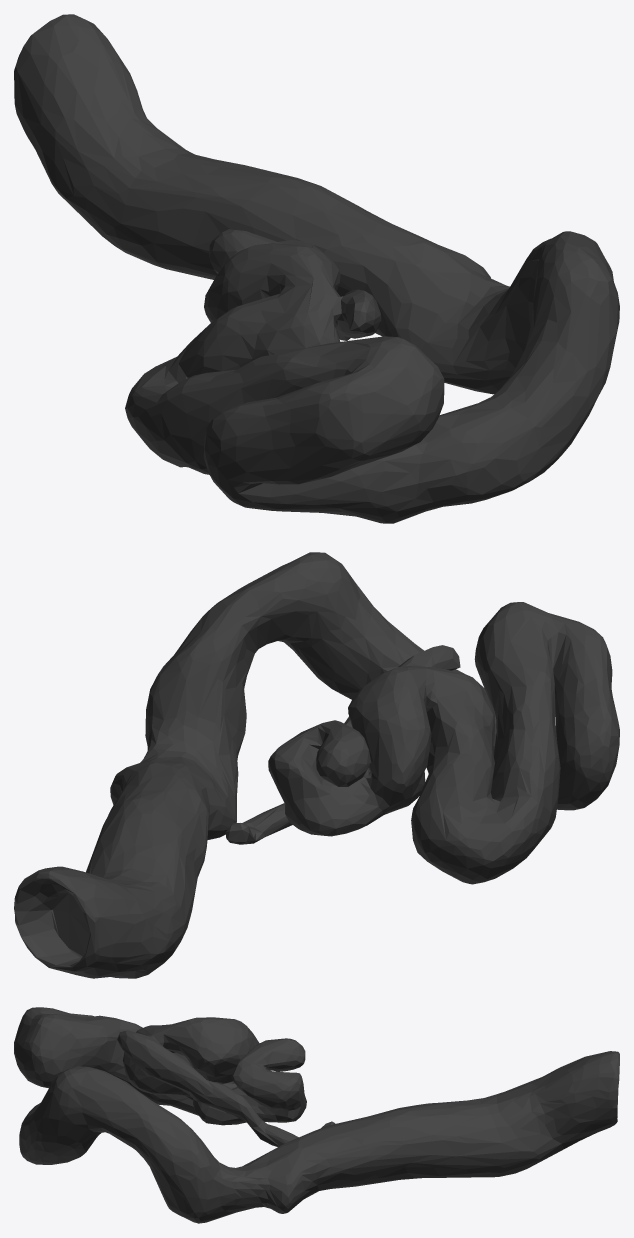
The model's file is Colon.glb.
The picture shows the model from 3 angles, top to bottom: view 1: azimuth 30°, elevation 25°; view 2: azimuth 150°, elevation 25°; view 3: azimuth 270°, elevation 25°; orthographic projection. The views are drawn at different scales.
Visible parts, largest first — view 1: Colon; view 2: Colon; view 3: Colon.
Part boxes in pixels (x1=…): Colon: x1=14, y1=14, x2=619, y2=523; Colon: x1=14, y1=552, x2=619, y2=978; Colon: x1=14, y1=1007, x2=619, y2=1223.
Size of the model in its own units: 143 by 65.34 by 253.
Materials: 1 (1 with a texture image).
